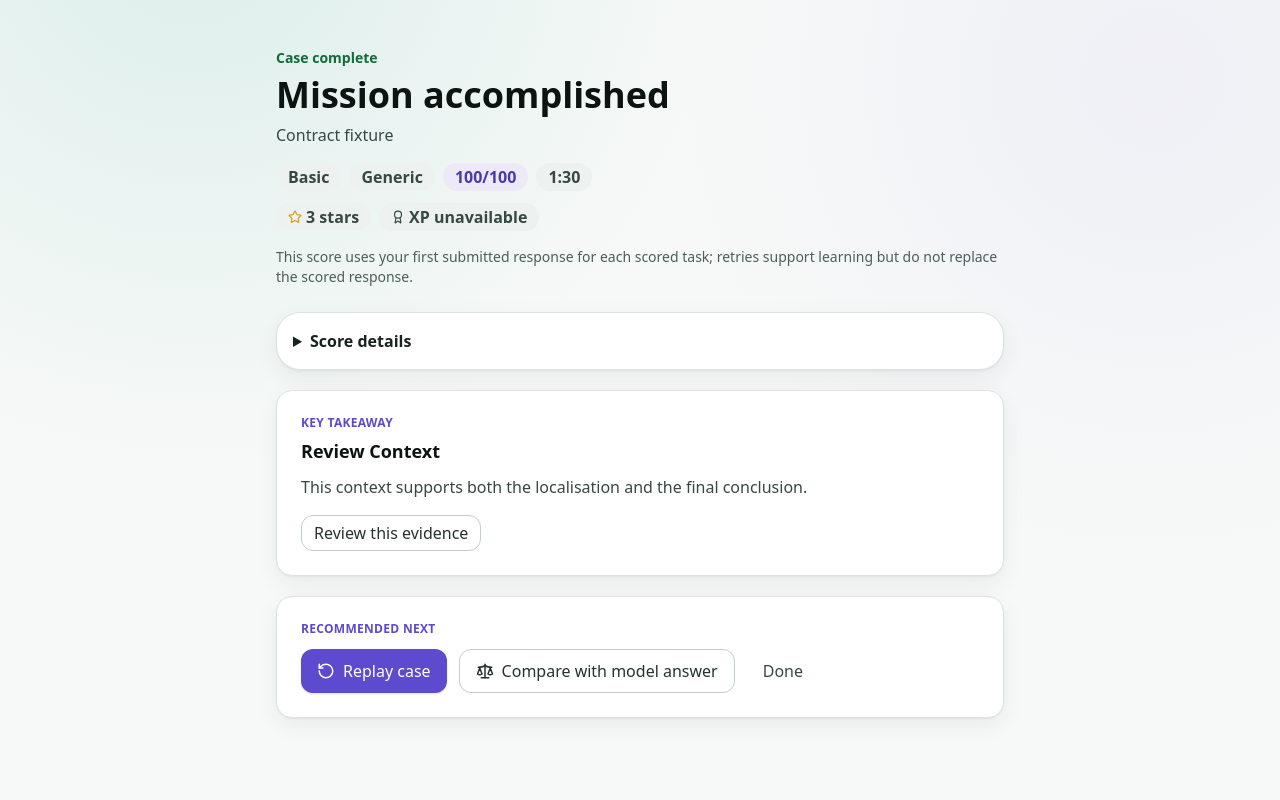
case results › opens clue evidence in an accessible read-only remediation sheet
Click the button "Review this evidence". click: [391, 533]
box: [301,515,481,551]
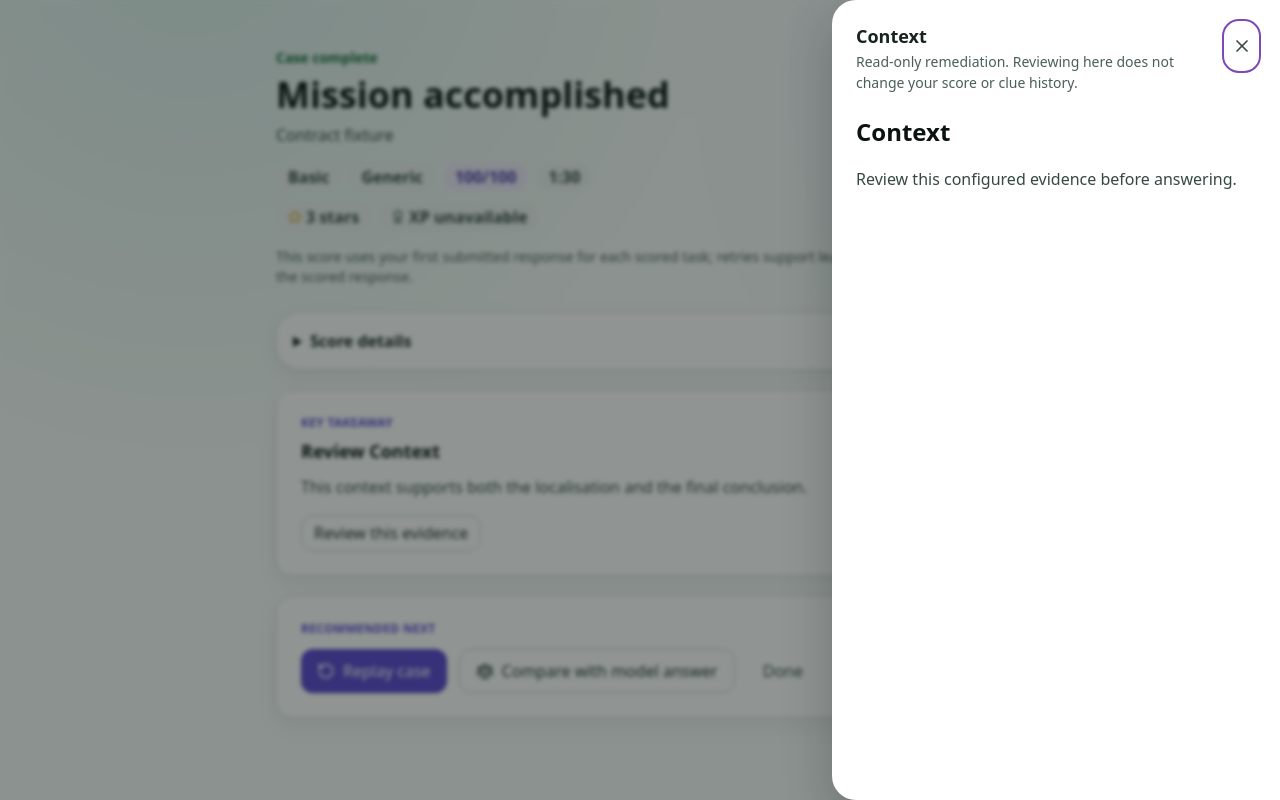
Check: the dialog "Context" shows "Read-only remediation", box [856,52,1174,92]
Check: the text "Review this configured evidence before answering." is shown, box [856,167,1256,192]
